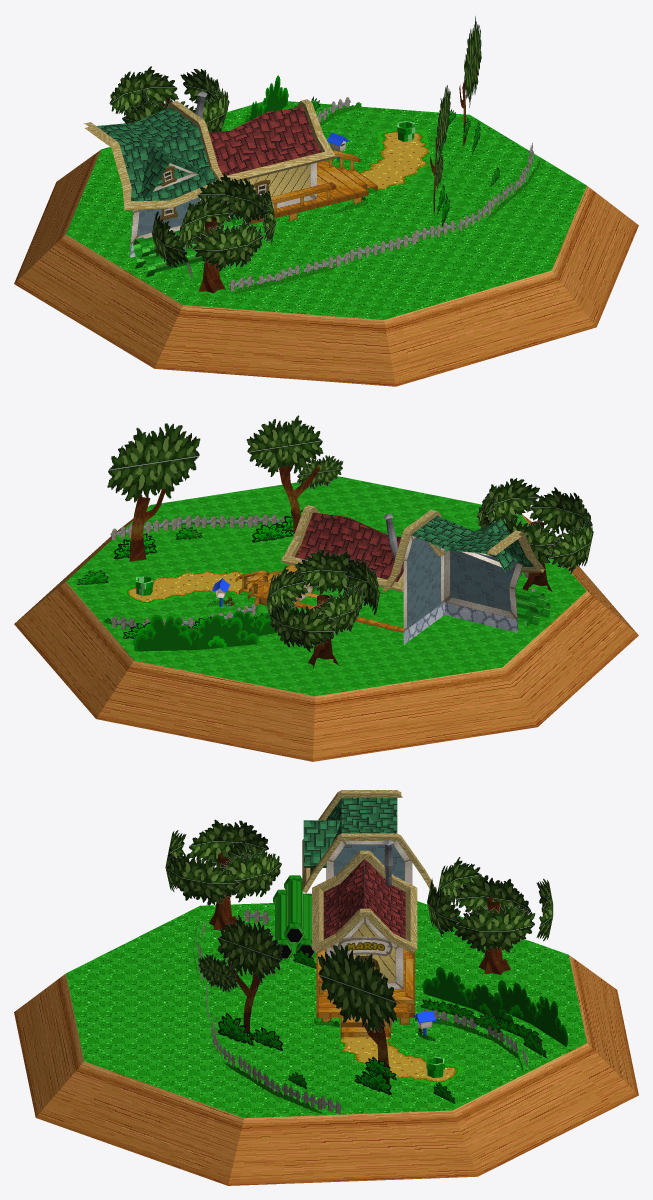
File: Outside Mario's house.obj
3 renders of one model, top to bottom at view 1: azimuth 30°, elevation 25°; view 2: azimuth 150°, elevation 25°; view 3: azimuth 270°, elevation 25°, orthographic. The views are drawn at different scales.
Size of the model in its own units: 24.76 by 8.13 by 24.76.
